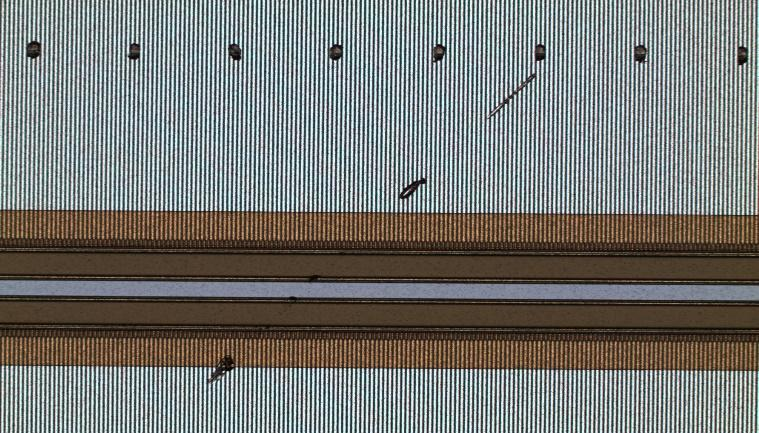SCRATCH: (185, 58, 552, 407)
